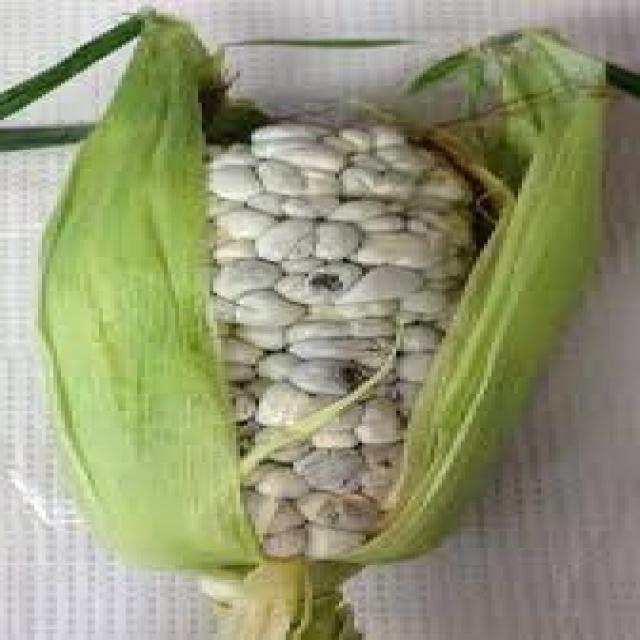Leaf_Scald: (5, 28, 601, 609)
